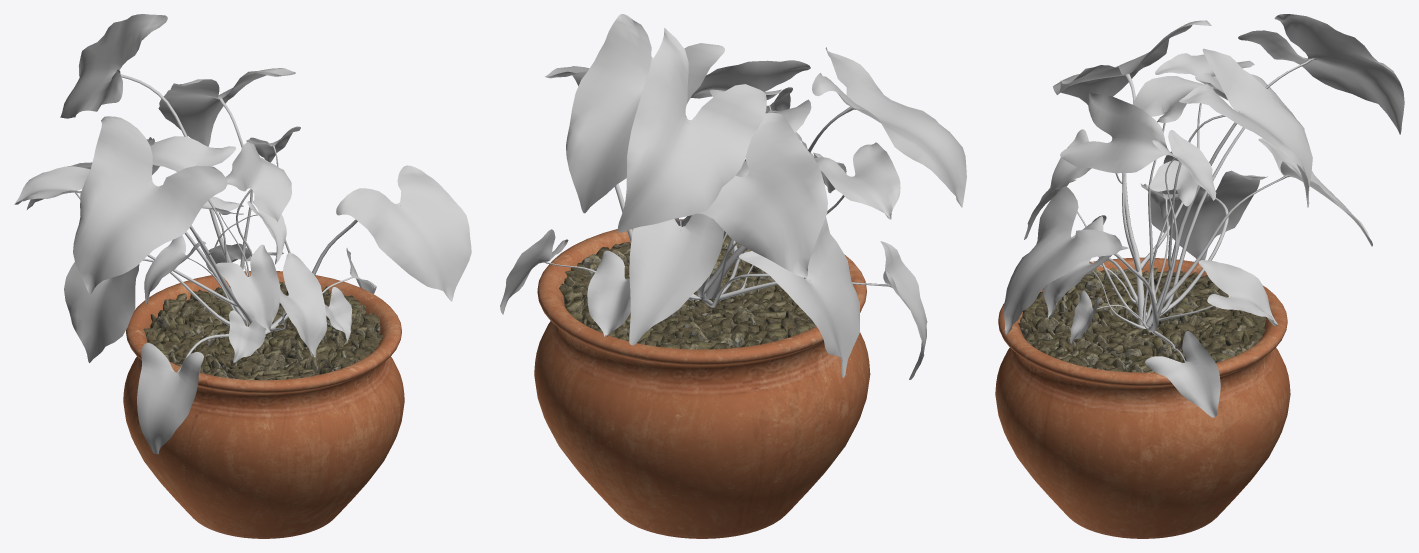
Rendered from potted_plant_02_1k.obj.
3 renders of one model, left to right at view 1: azimuth 30°, elevation 25°; view 2: azimuth 150°, elevation 25°; view 3: azimuth 270°, elevation 25°, orthographic. The views are drawn at different scales.
Visible parts, largest first — view 1: potted_plant_02_leaves, potted_plant_02_pot, potted_plant_02_dirt; view 2: potted_plant_02_leaves, potted_plant_02_pot, potted_plant_02_dirt; view 3: potted_plant_02_leaves, potted_plant_02_pot, potted_plant_02_dirt.
Part boxes in pixels (<box>): potted_plant_02_leaves: <box>14,14,471,454</box>; potted_plant_02_pot: <box>123,271,404,538</box>; potted_plant_02_dirt: <box>143,282,383,380</box>; potted_plant_02_leaves: <box>500,14,966,379</box>; potted_plant_02_pot: <box>534,219,870,538</box>; potted_plant_02_dirt: <box>559,234,816,349</box>; potted_plant_02_leaves: <box>1004,14,1404,417</box>; potted_plant_02_pot: <box>995,257,1290,538</box>; potted_plant_02_dirt: <box>1018,267,1266,372</box>.
Size of the model in its own units: 0.7012 by 0.8412 by 0.6574.
2 materials, 1 textured.
